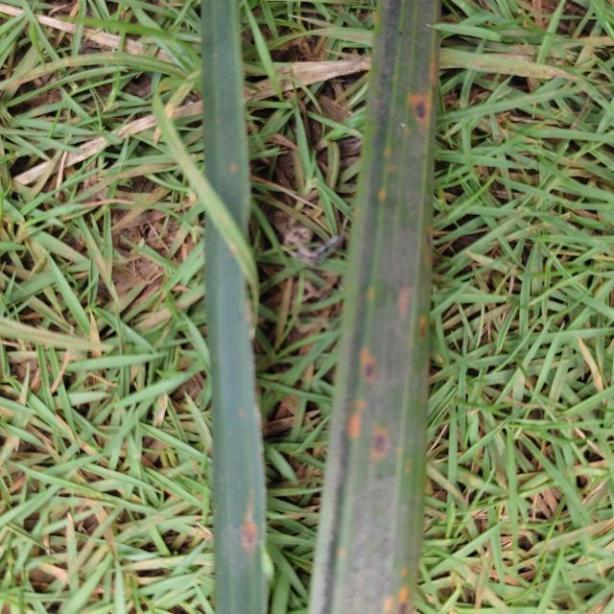Kalium: (193, 0, 443, 614)
